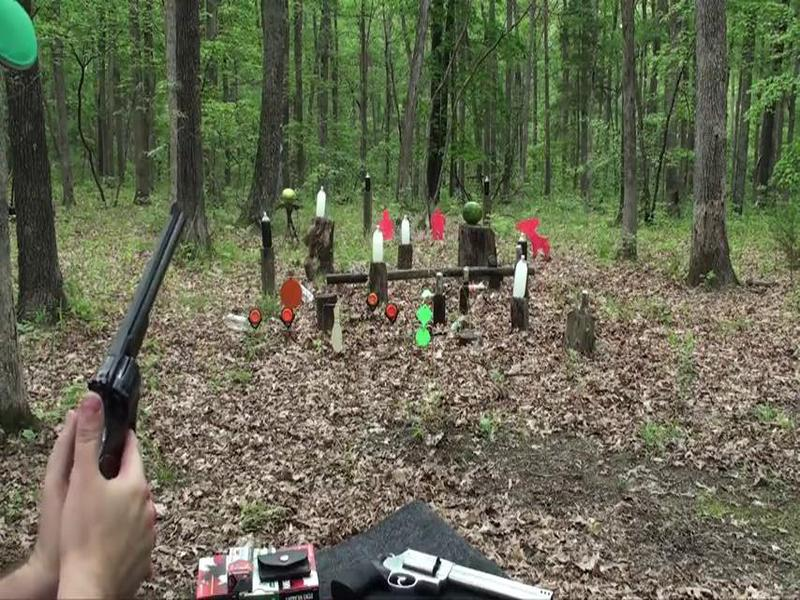Revolver: (86, 198, 200, 519)
